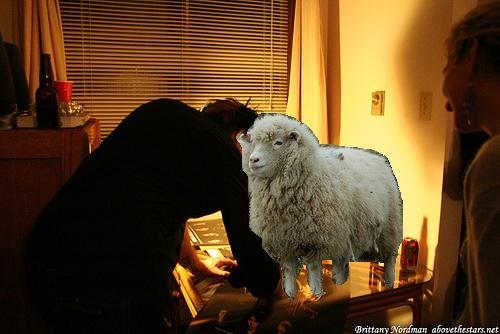tampered: (237, 114, 403, 300)
